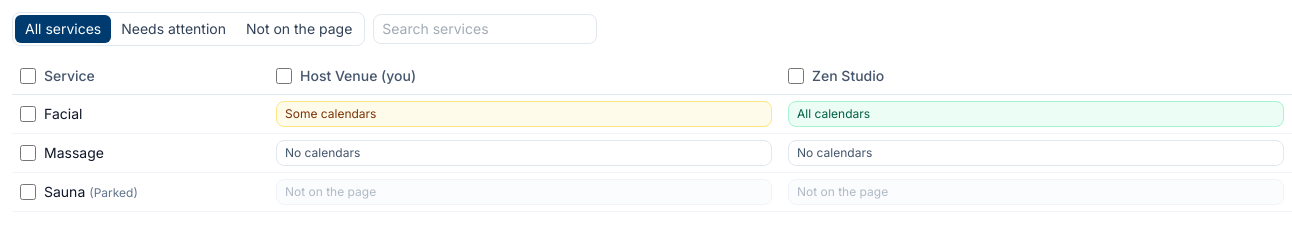
it: the grid › searches by service name
Type "mass" into the search field with placeholder "Search services" at (485, 29), box [373,14,597,44]
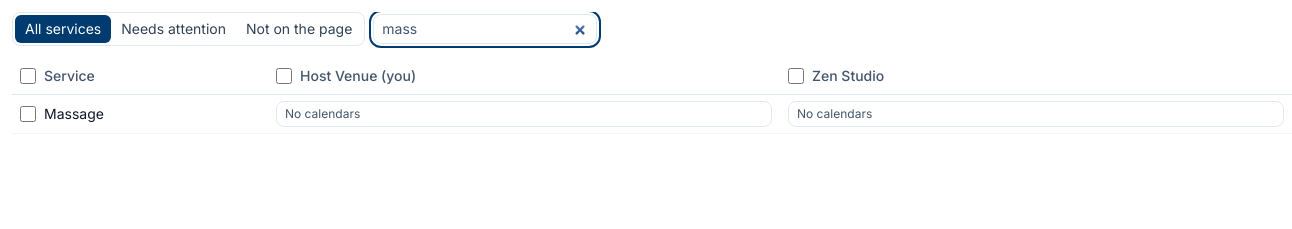
Expected: the column heading "Massage" is shown, [12,94,268,134]
Expected: the text "Facial" is gone
